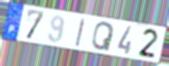2: (137, 29, 160, 61)
4: (117, 26, 133, 55)
7: (25, 8, 46, 41)
9: (47, 14, 67, 44)
I: (74, 18, 88, 49)
Q: (90, 21, 115, 52)
